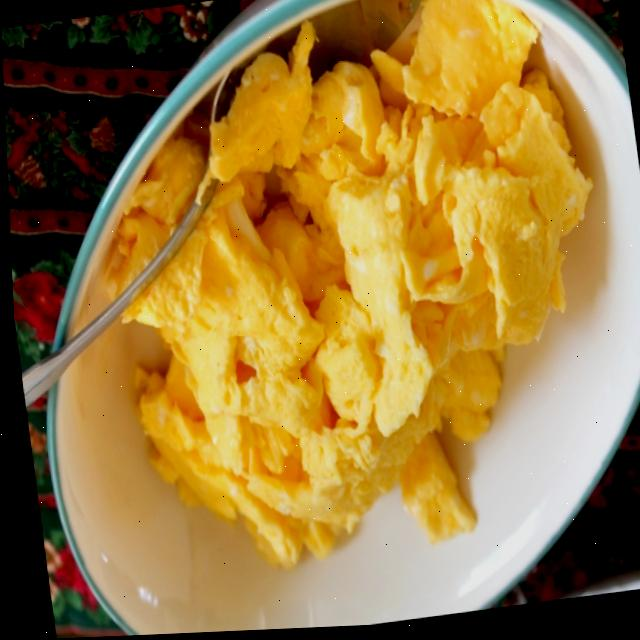鸡蛋料理: (27, 0, 638, 629)
